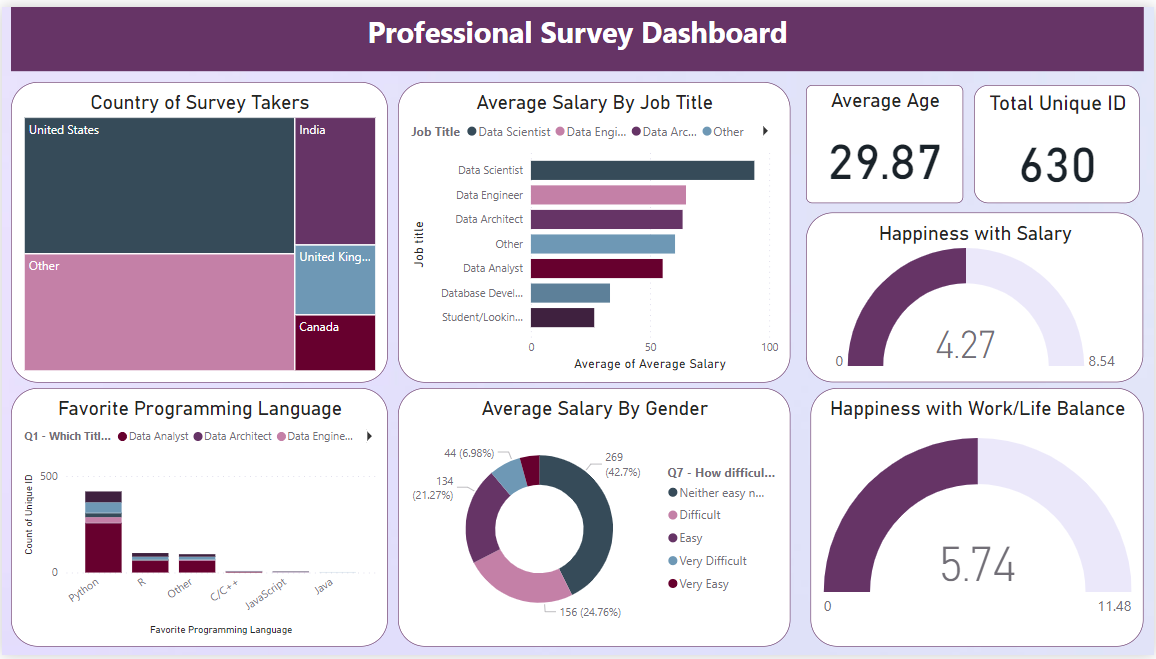

What the dashboard file says about the page in this screenshot:
{"tool":"powerbi","page":{"name":"Page 1","canvas":[1280,720],"ordinal":0},"visuals":[{"type":"textbox","box":[9.5,0,1258.8,71.5],"z":0},{"type":"cardVisual","title":"Total Unique ID","fields":{"Data":["Count(Data Professional Survey.Unique ID)"]},"box":[1080.8,85.9,184.3,131.2],"z":1000},{"type":"cardVisual","title":"Average Age","fields":{"Data":["Avg(Data Professional Survey.Q10 - Current Age)"]},"box":[893.4,85.9,174.9,131.2],"z":2000},{"type":"barChart","title":"Average Salary By Job Title","fields":{"Category":["Data Professional Survey.Q1 - Which Title Best Fits your Current Role?.1"],"Y":["Avg(Data Professional Survey.Average Salary)"],"Series":["Data Professional Survey.Q1 - Which Title Best Fits your Current Role?.1"]},"box":[440.4,82.8,435.7,334.2],"z":3000},{"type":"columnChart","title":"Favorite Programming Language","fields":{"Category":["Data Professional Survey.Q5 - Favorite Programming Language.1"],"Y":["CountNonNull(Data Professional Survey.Unique ID)"],"Series":["Data Professional Survey.Q1 - Which Title Best Fits your Current Role?.1"]},"box":[9.4,423.3,418.6,287.4],"z":4000},{"type":"treemap","title":"Country of Survey Takers","fields":{"Group":["Data Professional Survey.Q11 - Which Country do you live in?.1"],"Values":["CountNonNull(Data Professional Survey.Q11 - Which Country do you live in?.1)"]},"box":[9.4,82.8,418.6,334.2],"z":5000},{"type":"gauge","title":"Happiness with Work/Life Balance","fields":{"Y":["Avg(Data Professional Survey.Q6 - How Happy are you in your Current Position with the following? (Work/Life Balance))"],"MinValue":["Min(Data Professional Survey.Q6 - How Happy are you in your Current Position with the following? (Work/Life Balance))1"]},"box":[898,423.3,370.2,287.4],"z":6000},{"type":"gauge","title":"Happiness with Salary","fields":{"Y":["Avg(Data Professional Survey.Q6 - How Happy are you in your Current Position with the following? (Salary))"],"MinValue":["Min(Data Professional Survey.Q6 - How Happy are you in your Current Position with the following? (Salary))1"]},"box":[893.4,228,374.8,189],"z":7000},{"type":"donutChart","title":"Average Salary By Gender","fields":{"Category":["Data Professional Survey.Q7 - How difficult was it for you to break into Data?"],"Y":["CountNonNull(Data Professional Survey.Q7 - How difficult was it for you to break into Data?)"]},"box":[440.4,423.3,435.7,287.4],"z":8000}]}

Visuals, with their boxes in screenshot pixels (x1, y1, x2, y2), scaled from the page's 1280x720 canvas onto the 1156x659 screenshot:
textbox: 9, 0, 1145, 65
"Total Unique ID" cardVisual: 976, 79, 1143, 199
"Average Age" cardVisual: 807, 79, 965, 199
"Average Salary By Job Title" barChart: 398, 76, 791, 382
"Favorite Programming Language" columnChart: 8, 387, 387, 650
"Country of Survey Takers" treemap: 8, 76, 387, 382
"Happiness with Work/Life Balance" gauge: 811, 387, 1145, 650
"Happiness with Salary" gauge: 807, 209, 1145, 382
"Average Salary By Gender" donutChart: 398, 387, 791, 650
